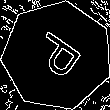P_SE: (25, 26, 89, 85)
